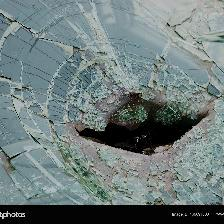glass_shatter: (33, 34, 203, 175)
